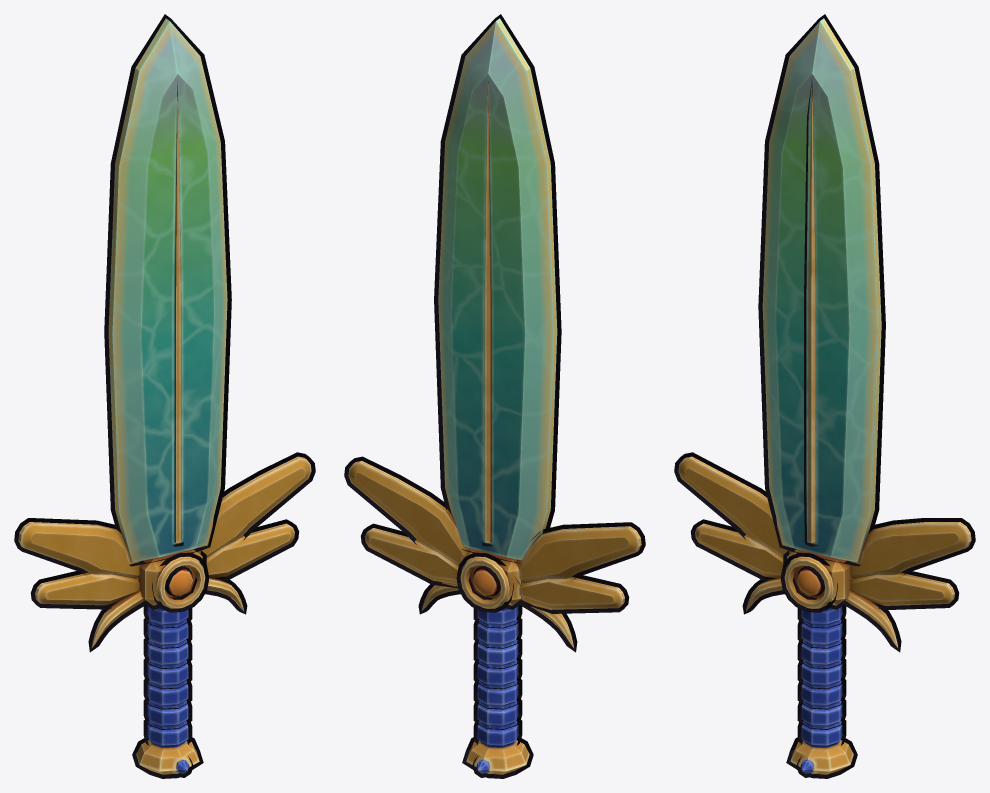
File: ScarabSword.fbx
3 views of the same model, side by side, from view 1: azimuth 30°, elevation 25°; view 2: azimuth 150°, elevation 25°; view 3: azimuth 330°, elevation 25° (orthographic).
Visible parts, largest first — view 1: ScarabSword, ScarabSwordOutline; view 2: ScarabSword, ScarabSwordOutline; view 3: ScarabSword, ScarabSwordOutline.
Boxes of the visible parts, bbox=[...] form: ScarabSword: bbox=[18, 18, 311, 774]; ScarabSwordOutline: bbox=[14, 14, 315, 778]; ScarabSword: bbox=[348, 18, 641, 774]; ScarabSwordOutline: bbox=[344, 14, 645, 778]; ScarabSword: bbox=[678, 18, 971, 774]; ScarabSwordOutline: bbox=[674, 14, 975, 778].
Bounding box in the file's own units: 175 × 427 × 44.4.
2 materials, 1 textured.
